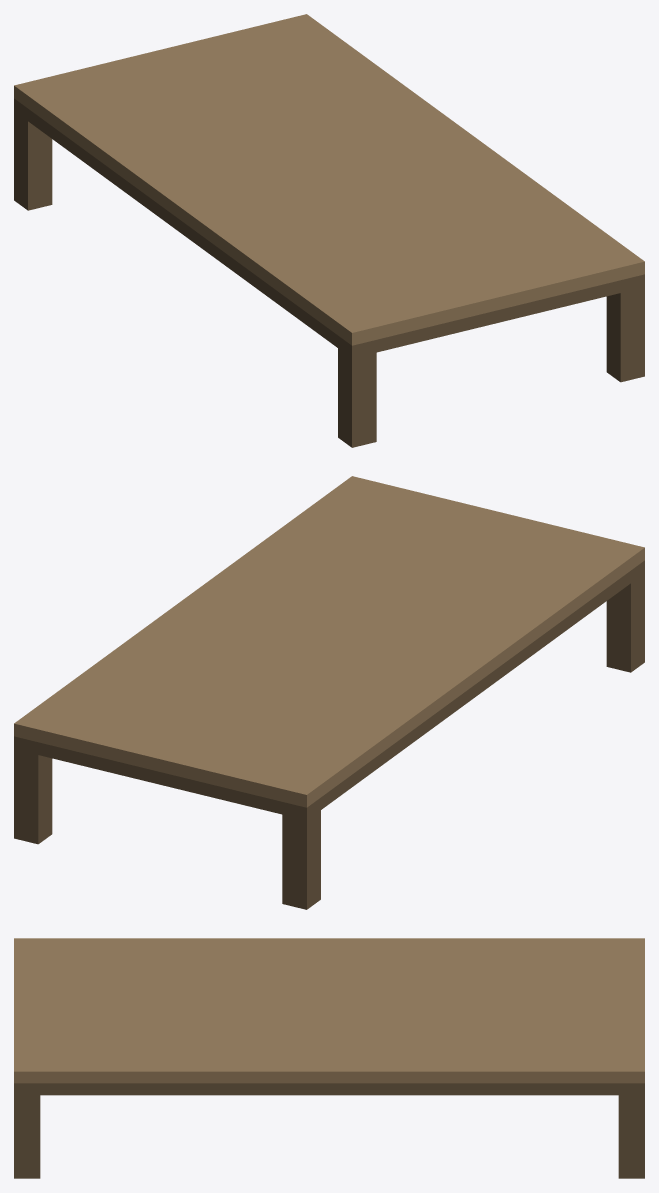
File: mesa_consejo_roble_01.glb
3 renders of one model, top to bottom at view 1: azimuth 30°, elevation 25°; view 2: azimuth 150°, elevation 25°; view 3: azimuth 270°, elevation 25°, orthographic. The views are drawn at different scales.
Parts seen in each view (by area): view 1: mesa_consejo_roble; view 2: mesa_consejo_roble; view 3: mesa_consejo_roble.
Part boxes in pixels (x1,y1,x2,y2): mesa_consejo_roble: (14,14,644,447); mesa_consejo_roble: (14,476,644,909); mesa_consejo_roble: (14,938,644,1178).
Bounding box in the file's own units: 2 × 0.75 × 4.
